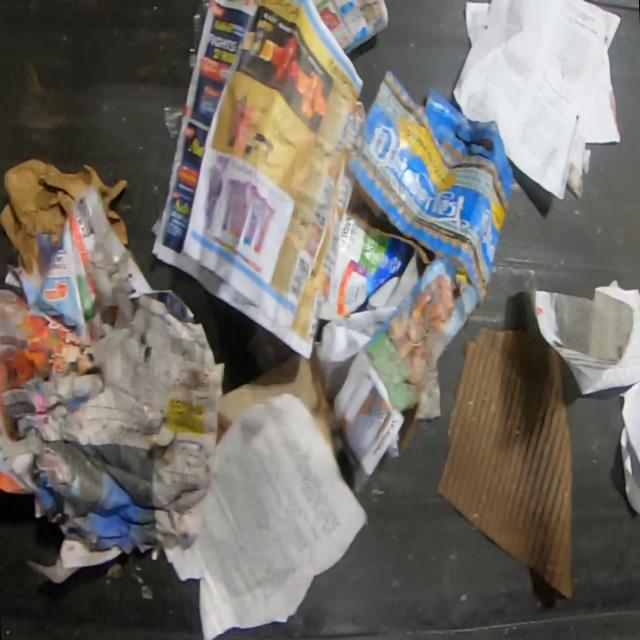cardboard: (342, 68, 512, 305), (435, 327, 571, 601), (216, 351, 334, 444), (316, 215, 414, 319)
soft_plastic: (191, 15, 206, 73), (164, 105, 185, 145)
